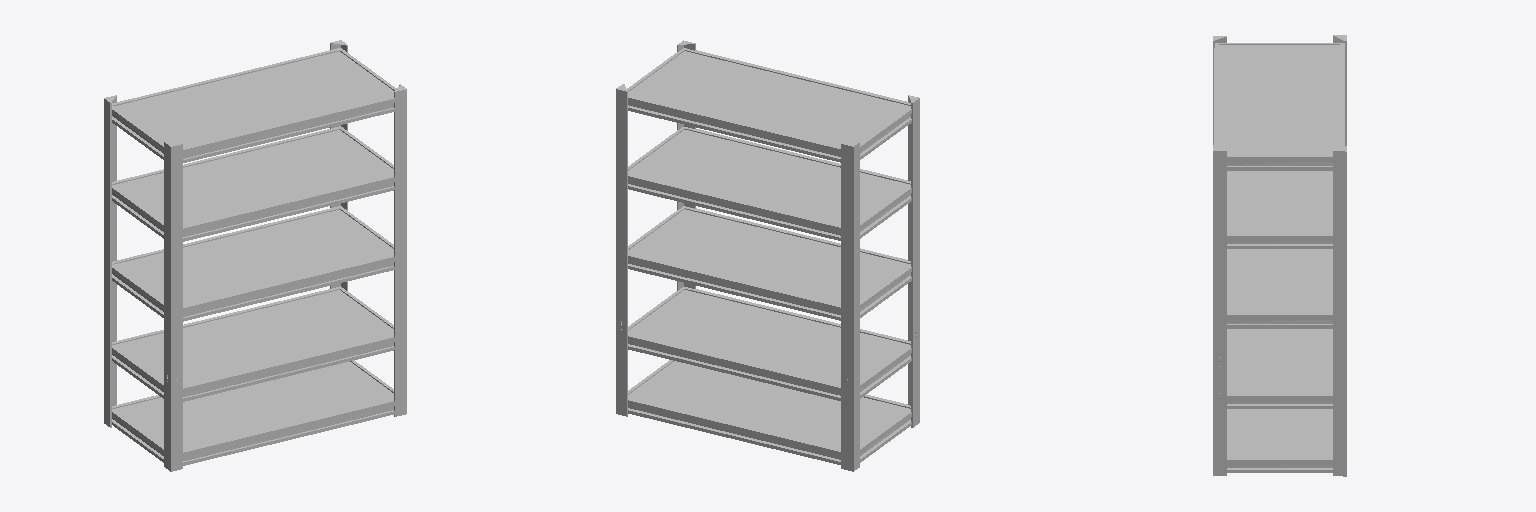
File: Shelving Unit.obj
3 views of the same model, side by side, from view 1: azimuth 30°, elevation 25°; view 2: azimuth 150°, elevation 25°; view 3: azimuth 270°, elevation 25° (orthographic).
Visible parts, largest first — view 1: Cube; view 2: Cube; view 3: Cube.
Part boxes in pixels (x1,y1,x2,y2): Cube: (104, 40, 406, 471); Cube: (616, 40, 919, 471); Cube: (1213, 35, 1346, 476).
Size of the model in its own units: 1.92 by 2.51 by 0.9393.